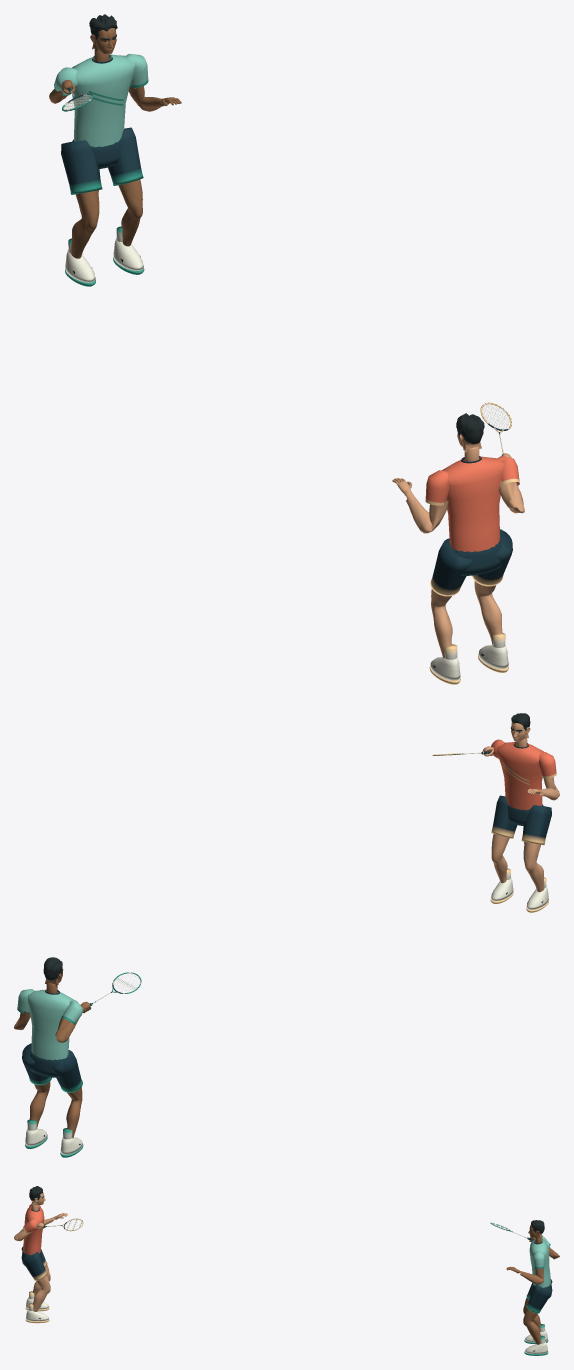
Rendered from ready-players.glb.
3 views of the same model, one above another, from view 1: azimuth 30°, elevation 25°; view 2: azimuth 150°, elevation 25°; view 3: azimuth 270°, elevation 25° (orthographic). The views are drawn at different scales.
Parts seen in each view (by area): view 1: ReviewPlayer_Near, ReviewPlayer_Far, ReviewPlayer_Near_Rally-SuperHero_Male, ReviewPlayer_Far_Rally-SuperHero_Male, ReviewPlayer_Far_right-shorts-leg, ReviewPlayer_Near_left-shorts-leg, ReviewPlayer_Far_left-shorts-leg, ReviewPlayer_Near_shorts-waist, ReviewPlayer_Near_left-shoe, ReviewPlayer_Near_right-shoe, ReviewPlayer_Far_left-shoe, ReviewPlayer_Near_right-shorts-leg; view 2: ReviewPlayer_Far, ReviewPlayer_Near, ReviewPlayer_Near_Rally-SuperHero_Male, ReviewPlayer_Far_Rally-SuperHero_Male, ReviewPlayer_Near_left-shorts-leg, ReviewPlayer_Far_right-shorts-leg, ReviewPlayer_Near_right-shorts-leg; view 3: ReviewPlayer_Near, ReviewPlayer_Far_Rally-SuperHero_Male, ReviewPlayer_Far, ReviewPlayer_Near_Rally-SuperHero_Male, ReviewPlayer_Far_left-shorts-leg, ReviewPlayer_Near_right-shorts-leg, ReviewPlayer_Far_left-shoe, ReviewPlayer_Near_right-shoe.
Part boxes in pixels (bbox=[...]): ReviewPlayer_Near: bbox=[425, 413, 519, 552]; ReviewPlayer_Far: bbox=[54, 14, 148, 147]; ReviewPlayer_Near_Rally-SuperHero_Male: bbox=[406, 430, 524, 658]; ReviewPlayer_Far_Rally-SuperHero_Male: bbox=[49, 28, 164, 258]; ReviewPlayer_Far_right-shorts-leg: bbox=[61, 140, 102, 194]; ReviewPlayer_Near_left-shorts-leg: bbox=[430, 538, 472, 596]; ReviewPlayer_Far_left-shorts-leg: bbox=[108, 127, 143, 185]; ReviewPlayer_Near_shorts-waist: bbox=[453, 539, 501, 575]; ReviewPlayer_Near_left-shoe: bbox=[429, 644, 460, 684]; ReviewPlayer_Near_right-shoe: bbox=[478, 632, 508, 672]; ReviewPlayer_Far_left-shoe: bbox=[113, 226, 144, 274]; ReviewPlayer_Near_right-shorts-leg: bbox=[472, 529, 512, 586]; ReviewPlayer_Far: bbox=[17, 957, 83, 1060]; ReviewPlayer_Near: bbox=[491, 713, 556, 810]; ReviewPlayer_Near_Rally-SuperHero_Male: bbox=[491, 722, 559, 892]; ReviewPlayer_Far_Rally-SuperHero_Male: bbox=[14, 967, 82, 1138]; ReviewPlayer_Near_left-shorts-leg: bbox=[521, 805, 551, 845]; ReviewPlayer_Far_right-shorts-leg: bbox=[51, 1050, 82, 1092]; ReviewPlayer_Near_right-shorts-leg: bbox=[491, 795, 517, 838]; ReviewPlayer_Near: bbox=[23, 1186, 44, 1255]; ReviewPlayer_Far_Rally-SuperHero_Male: bbox=[519, 1225, 559, 1344]; ReviewPlayer_Far: bbox=[529, 1220, 550, 1287]; ReviewPlayer_Near_Rally-SuperHero_Male: bbox=[14, 1192, 54, 1311]; ReviewPlayer_Far_left-shorts-leg: bbox=[526, 1284, 552, 1313]; ReviewPlayer_Near_right-shorts-leg: bbox=[21, 1251, 47, 1280]; ReviewPlayer_Far_left-shoe: bbox=[524, 1335, 548, 1355]; ReviewPlayer_Near_right-shoe: bbox=[25, 1303, 49, 1323].
Bounding box in the file's own units: 1.76 × 1.83 × 7.06.
